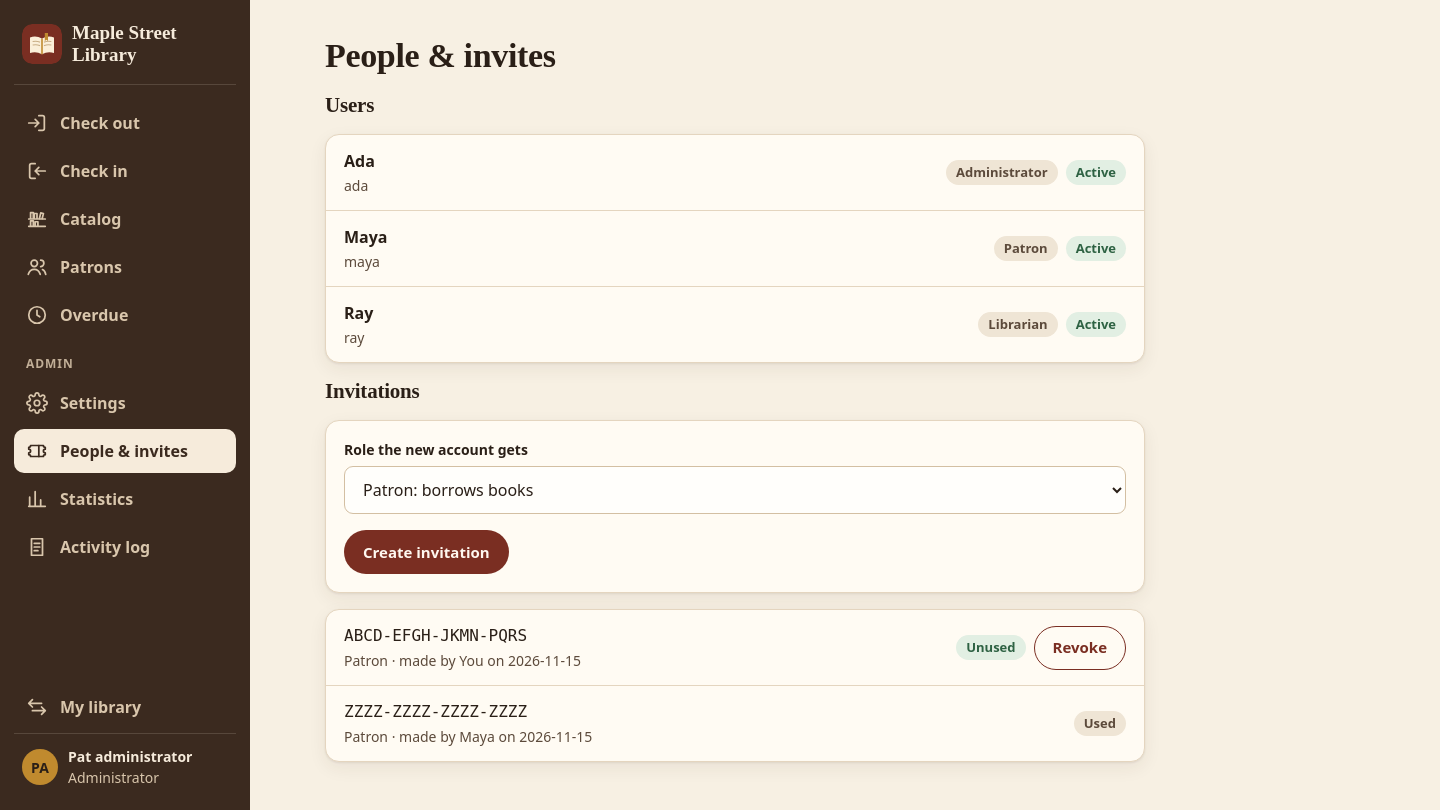
Test: ACCESS-3 Manage invitation codes › Revoke: an unused code is listed with its state and creator, and revoking marks it revoked
This screenshot has width=1440, height=810.
Check: the list item that starts with "ABCD-EFGH-JKMN-PQRS" is shown, box x1=344 y1=626 x2=527 y2=645
Check: the list item that starts with "ABCD-EFGH-JKMN-PQRS" shows "Unused", box x1=966 y1=638 x2=1016 y2=656
Click the button with aria-label "Revoke ABCD-EFGH-JKMN-PQRS".
click(1080, 648)  # box x1=1034 y1=626 x2=1126 y2=670
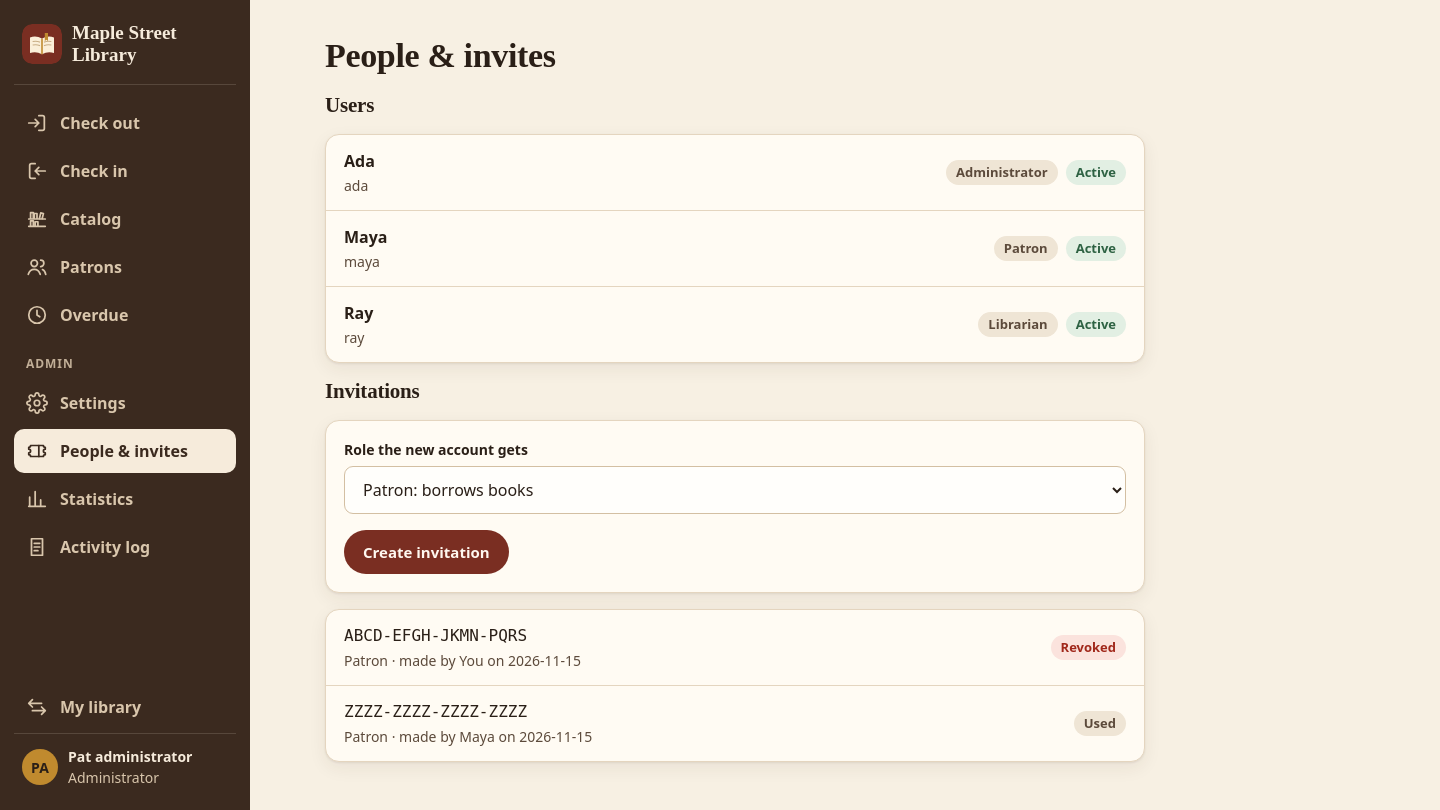
Check: the list item that starts with "ABCD-EFGH-JKMN-PQRS" shows "Revoked", box x1=1061 y1=638 x2=1116 y2=656
